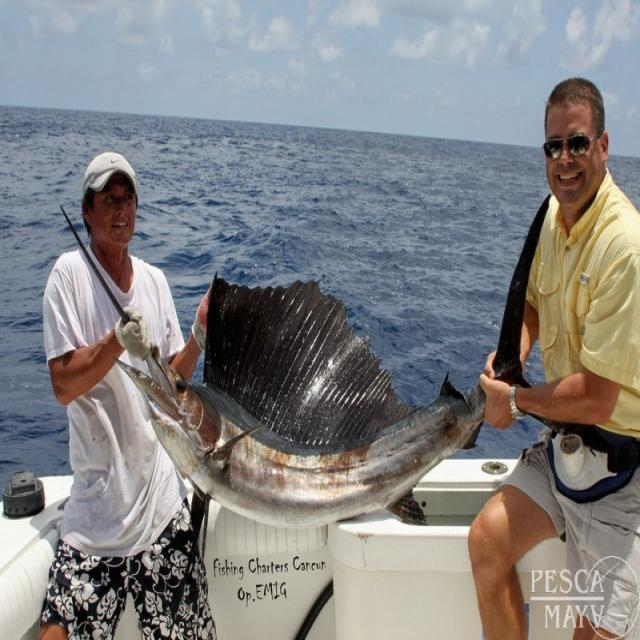Liberacion no segura: (59, 191, 552, 640)
